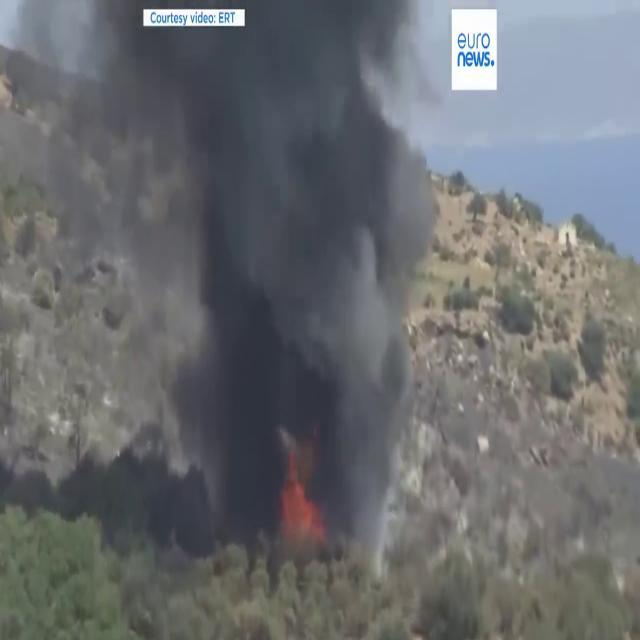Smoke: (42, 0, 444, 556)
